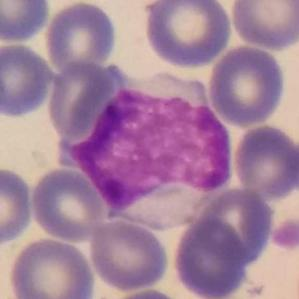Monocyte: (62, 70, 238, 226)
Platelets: (268, 215, 299, 253)
RBC: (192, 185, 277, 272), (205, 43, 288, 128), (170, 214, 251, 299), (140, 0, 235, 70), (87, 217, 171, 292), (28, 166, 107, 244), (5, 235, 98, 299), (45, 58, 116, 140), (42, 0, 119, 73), (231, 123, 299, 200), (0, 40, 57, 120), (228, 0, 298, 52), (0, 165, 36, 248), (0, 0, 52, 44), (102, 286, 192, 299)
